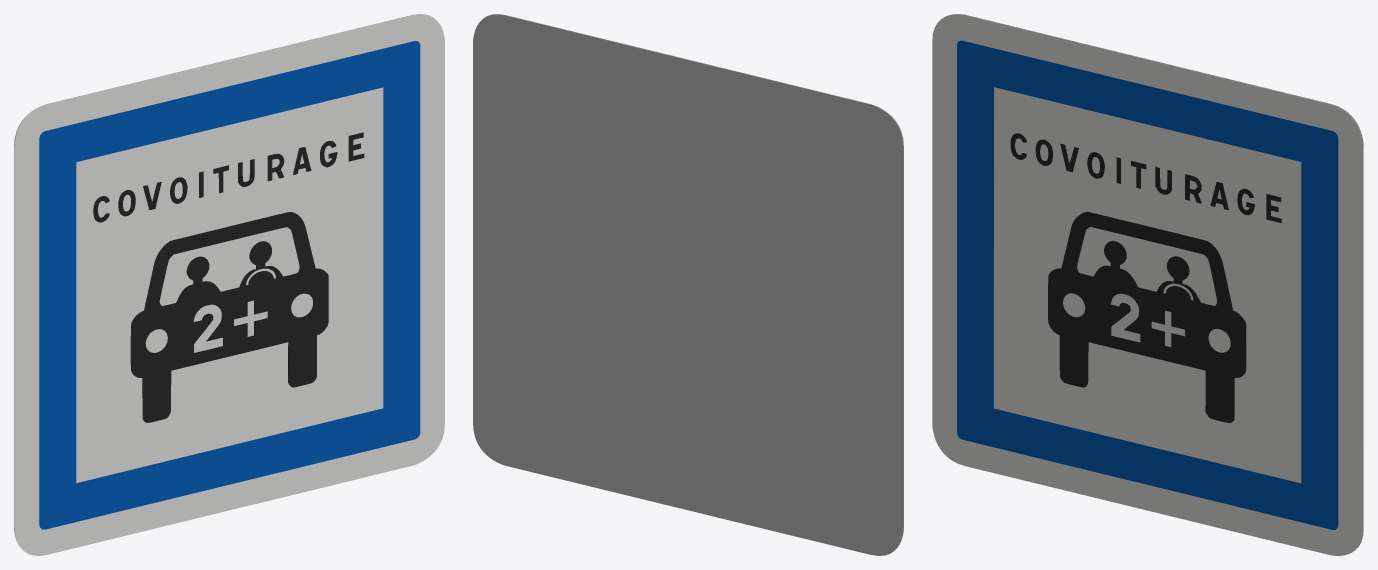
3 renders of one model, left to right at view 1: azimuth 30°, elevation 25°; view 2: azimuth 150°, elevation 25°; view 3: azimuth 330°, elevation 25°, orthographic.
Parts seen in each view (by area): view 1: CE52_p00, CE52_p01, CE52_p02, CE52_dos; view 2: CE52_dos, CE52_p00; view 3: CE52_p00, CE52_p01, CE52_p02, CE52_dos.
Part boxes in pixels (x1,y1,x2,y2): CE52_p00: (14, 14, 444, 555); CE52_p01: (39, 41, 420, 529); CE52_p02: (93, 132, 364, 422); CE52_dos: (14, 14, 429, 547); CE52_dos: (473, 14, 903, 555); CE52_p00: (488, 14, 903, 547); CE52_p00: (932, 14, 1363, 555); CE52_p01: (957, 40, 1338, 529); CE52_p02: (1010, 133, 1281, 423); CE52_dos: (945, 14, 1363, 546).
Size of the model in its own units: 0.7 by 0.6999 by 0.0027.
